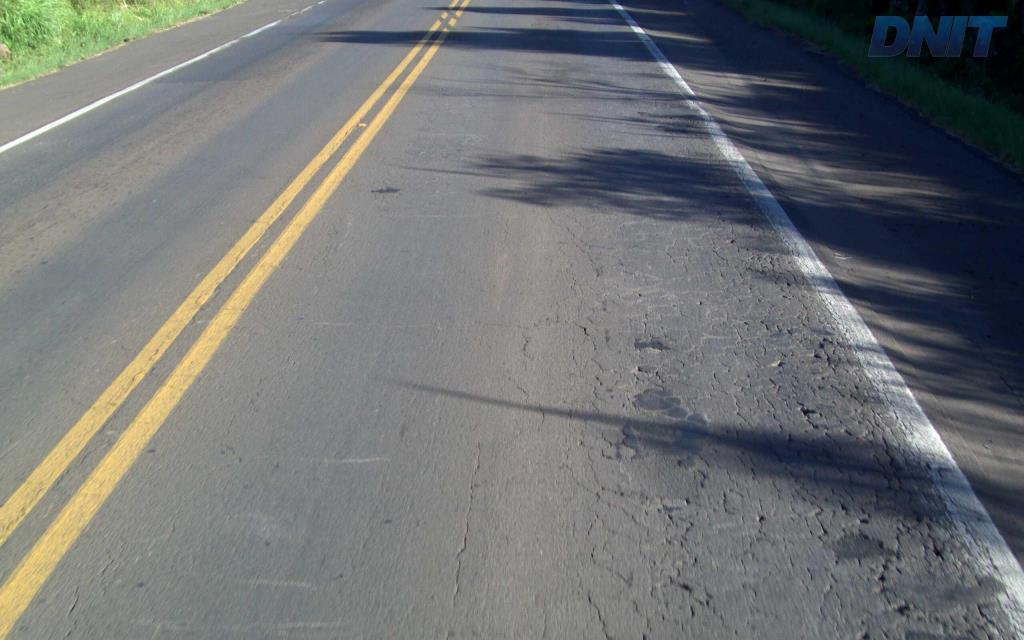crack: (835, 528, 901, 605), (657, 493, 694, 535), (552, 401, 625, 419), (837, 497, 871, 524)
